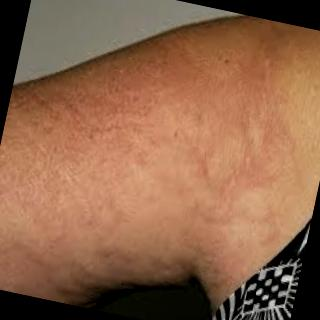urticaria: (33, 96, 282, 236)
